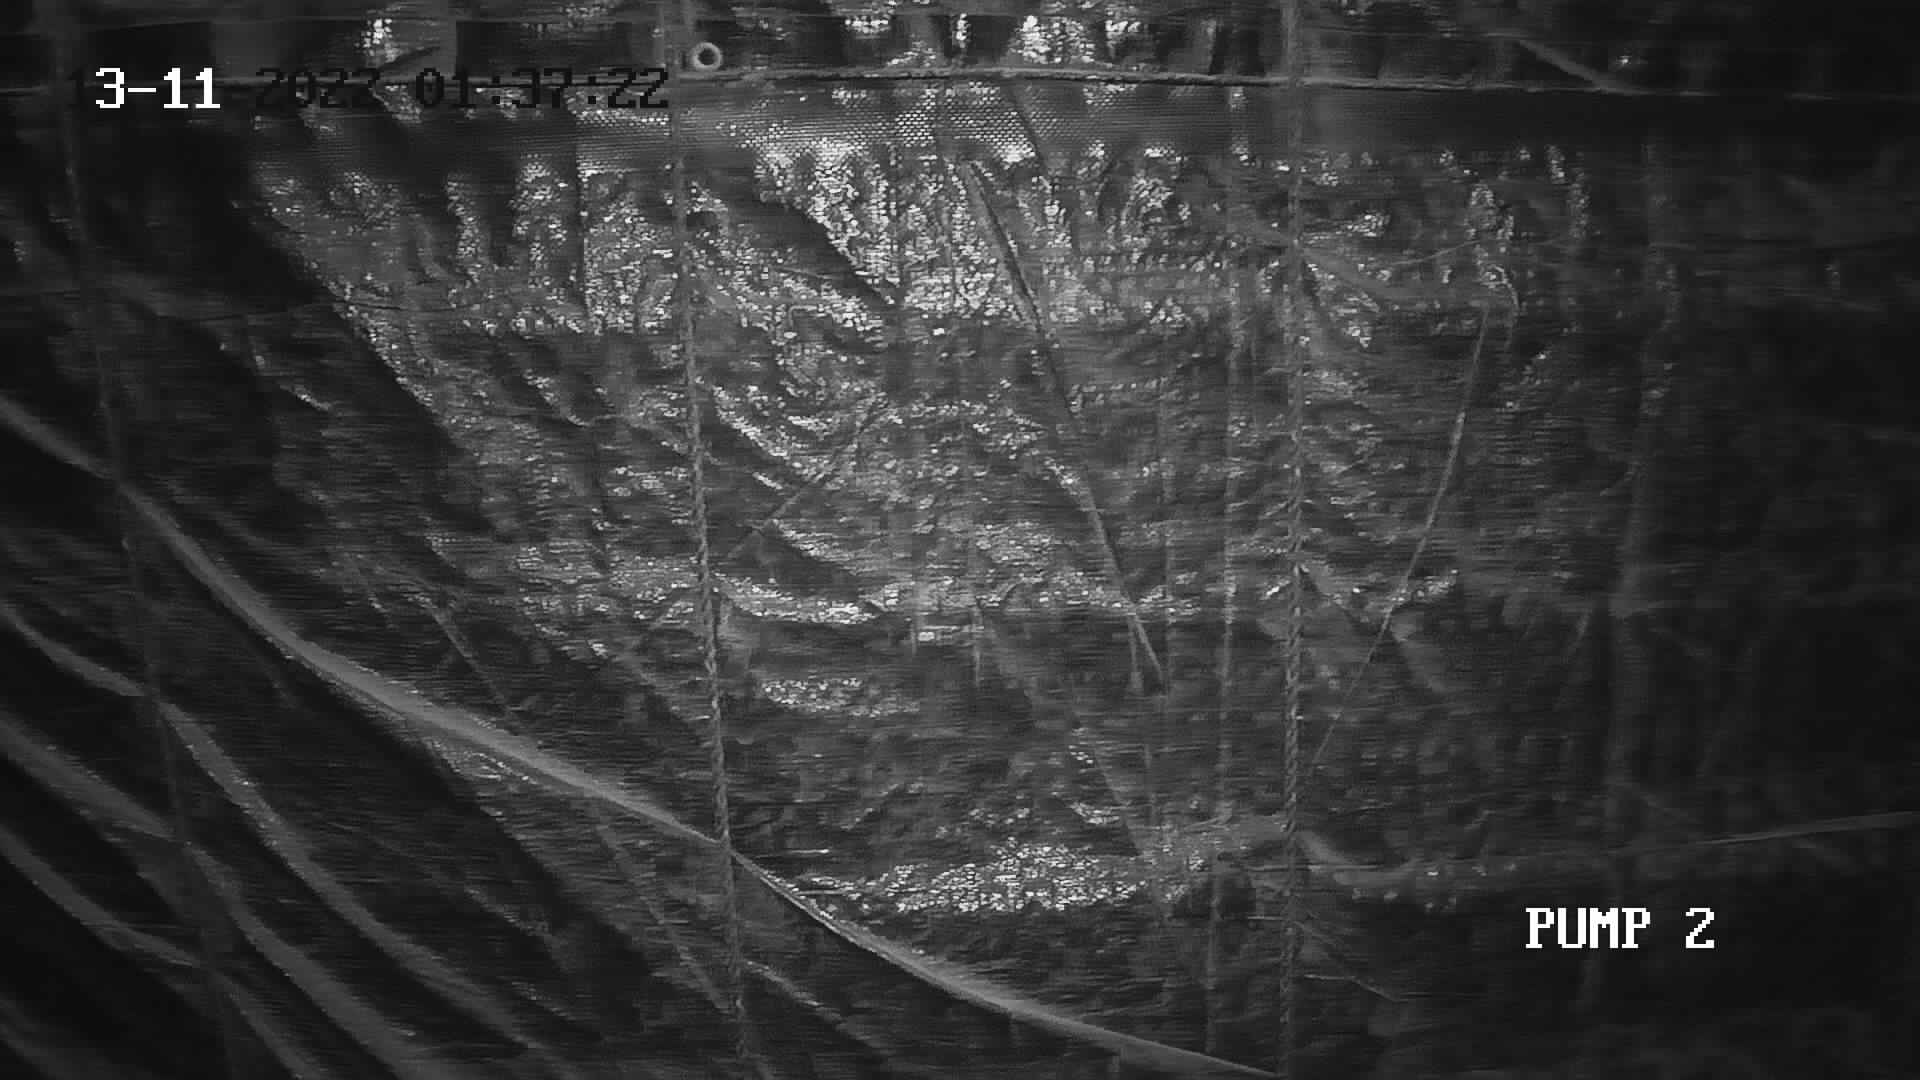HMV: (1, 5, 1917, 1073)
